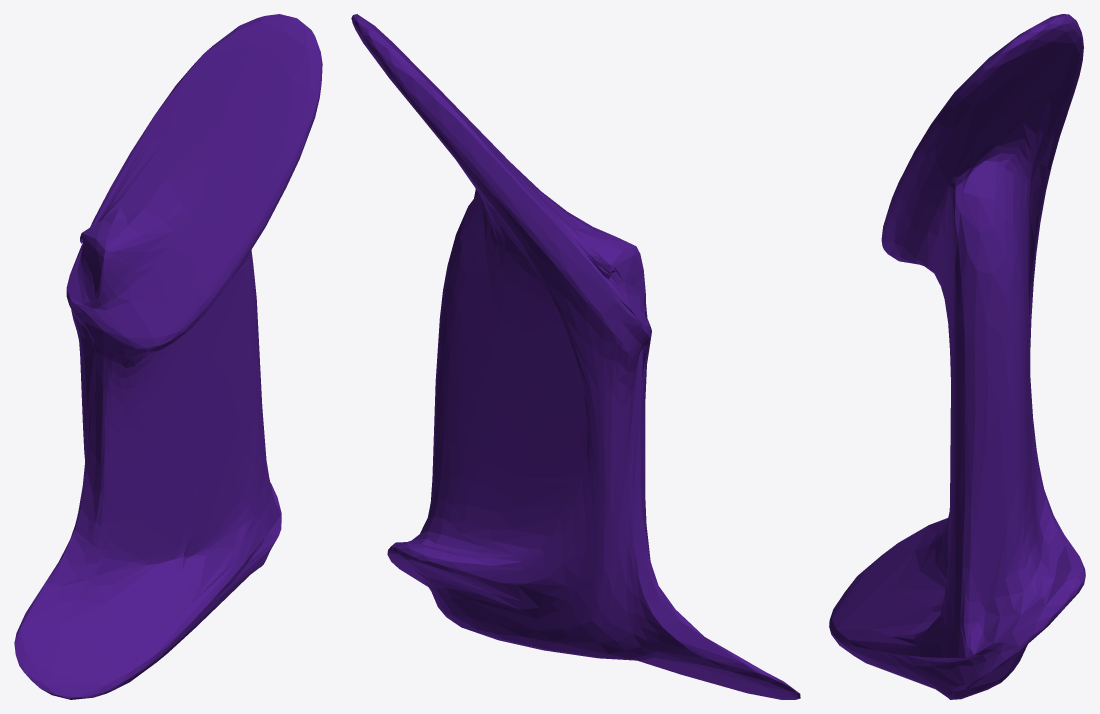
3 renders of one model, left to right at view 1: azimuth 30°, elevation 25°; view 2: azimuth 150°, elevation 25°; view 3: azimuth 270°, elevation 25°, orthographic. The views are drawn at different scales.
Visible parts, largest first — view 1: 679_Cube.2726; view 2: 679_Cube.2726; view 3: 679_Cube.2726.
Boxes of the visible parts, left/top/right/bottom form: 679_Cube.2726: left=14, top=14, right=322, bottom=699; 679_Cube.2726: left=351, top=14, right=800, bottom=699; 679_Cube.2726: left=829, top=14, right=1085, bottom=699.
Size of the model in its own units: 11.68 by 18.71 by 5.58.
